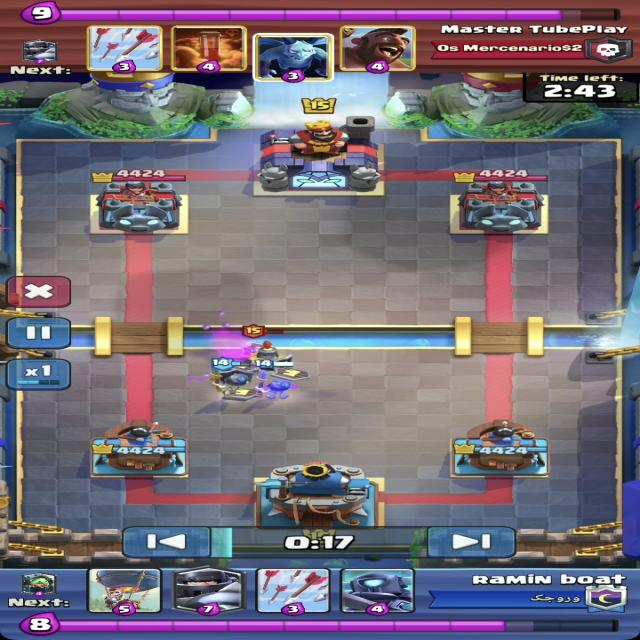Enemy-Guard: (241, 323, 295, 370)
Player-Guard: (208, 357, 266, 401), (252, 356, 294, 401)
